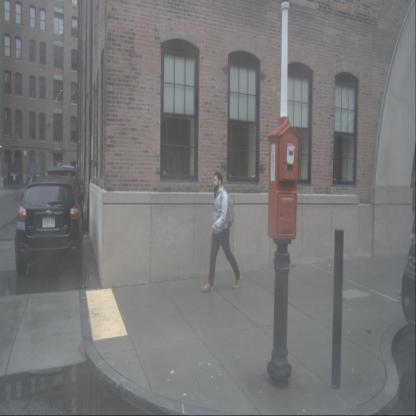human-pedestrian-adult: (201, 172, 243, 292)
vehicle-car: (14, 172, 84, 276), (42, 166, 84, 235), (7, 164, 21, 185)
